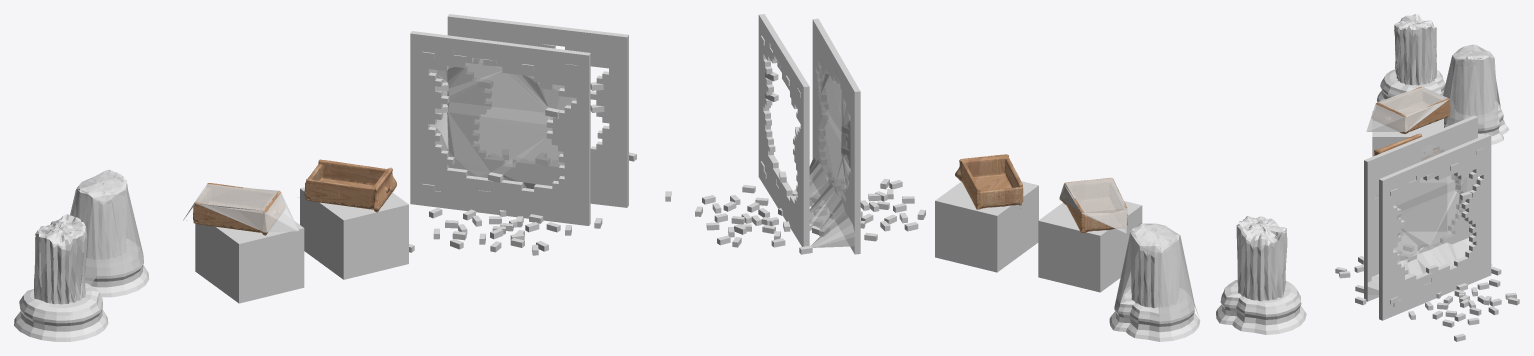
The model's file is project19.glb.
3 renders of one model, left to right at view 1: azimuth 30°, elevation 25°; view 2: azimuth 150°, elevation 25°; view 3: azimuth 270°, elevation 25°, orthographic. The views are drawn at different scales.
Parts seen in each view (by area): view 1: BrokenColumn3.obj24B6F105-AB83-465F-BEB4-560EDBD1638D; view 2: BrokenColumn3.obj24B6F105-AB83-465F-BEB4-560EDBD1638D; view 3: BrokenColumn3.obj24B6F105-AB83-465F-BEB4-560EDBD1638D.
Boxes of the visible parts, x1,y1,x2,y2 form: BrokenColumn3.obj24B6F105-AB83-465F-BEB4-560EDBD1638D: (14,14,636,341); BrokenColumn3.obj24B6F105-AB83-465F-BEB4-560EDBD1638D: (665,14,1306,341); BrokenColumn3.obj24B6F105-AB83-465F-BEB4-560EDBD1638D: (1335,14,1519,341).
Bounding box in the file's own units: 7.27 × 1.86 × 2.2.
Materials: 5 (1 with a texture image).
